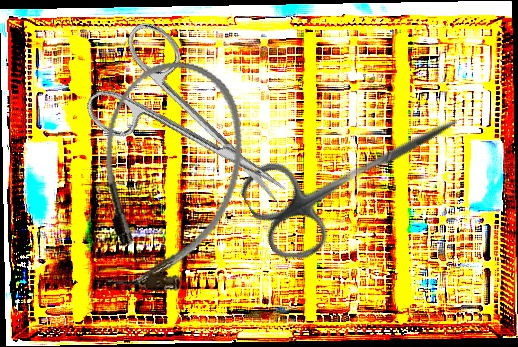Cannula: (74, 47, 261, 307)
Iris Scissors: (71, 15, 316, 243), (233, 72, 481, 272)
